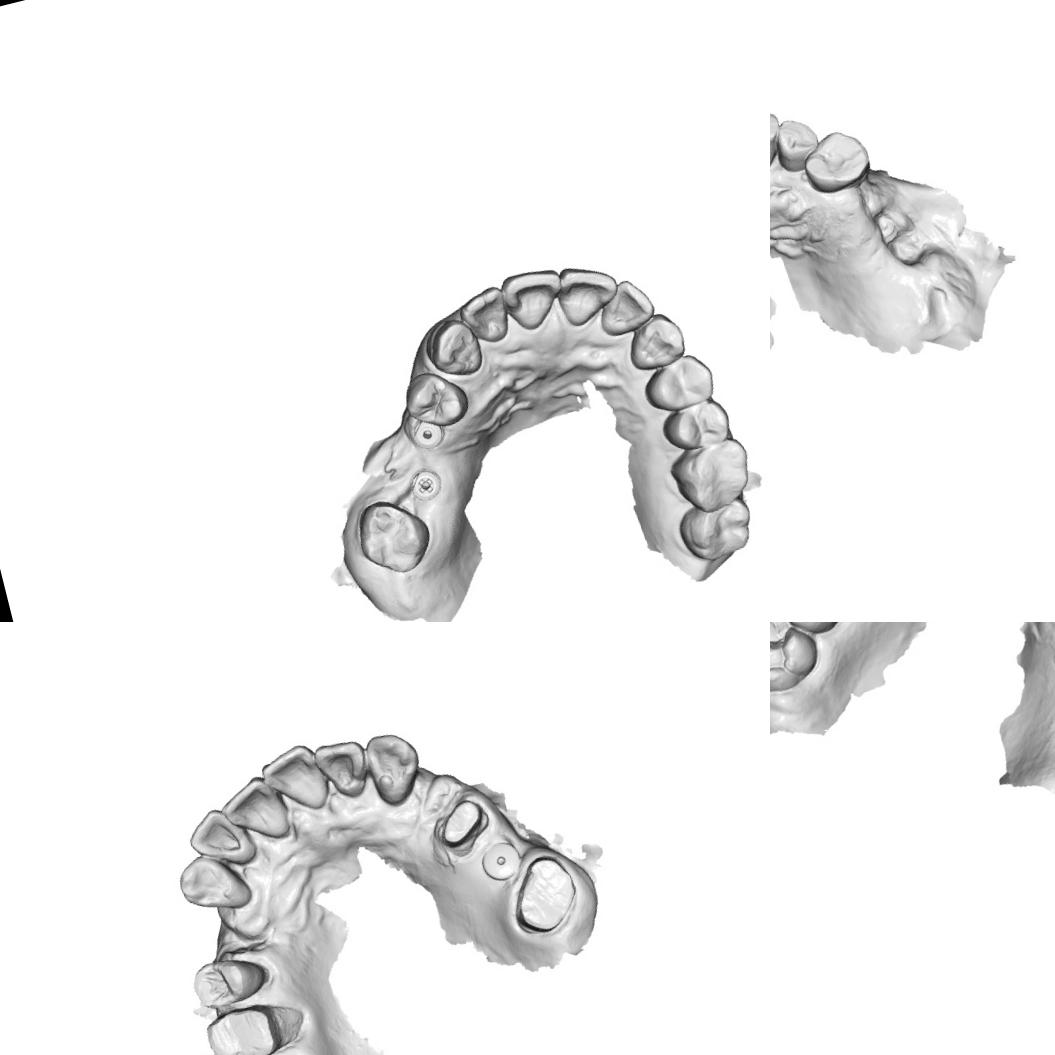canine: (171, 843, 258, 922), (357, 724, 430, 812), (620, 307, 691, 376), (418, 312, 486, 384)
crown: (501, 846, 586, 940), (199, 998, 288, 1055), (426, 792, 494, 853)
implant: (474, 835, 526, 886), (407, 412, 448, 453)
implant_plus: (399, 452, 455, 508)
incisor: (211, 768, 296, 852), (253, 737, 334, 822), (180, 798, 260, 877), (496, 262, 572, 338), (550, 255, 625, 330), (589, 273, 660, 340), (309, 732, 373, 806), (454, 283, 514, 349), (770, 112, 824, 175), (770, 104, 790, 184)
molar: (663, 433, 759, 520), (350, 489, 438, 582), (672, 490, 757, 571), (770, 622, 825, 702)
premolar: (635, 347, 720, 418), (796, 124, 876, 199), (187, 948, 270, 1015), (398, 364, 472, 435), (656, 394, 734, 456)
